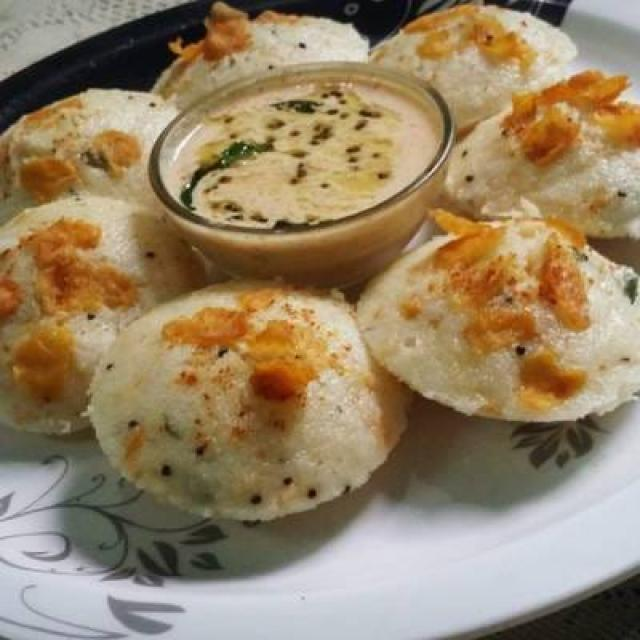rave idli: (72, 272, 408, 533), (362, 208, 640, 444), (0, 188, 192, 426), (451, 75, 640, 234), (0, 66, 173, 226), (140, 0, 379, 99), (368, 0, 583, 108)
